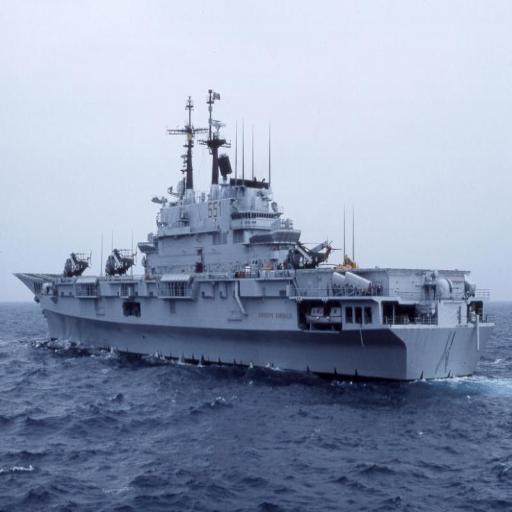Portanaves: (11, 81, 500, 389)
